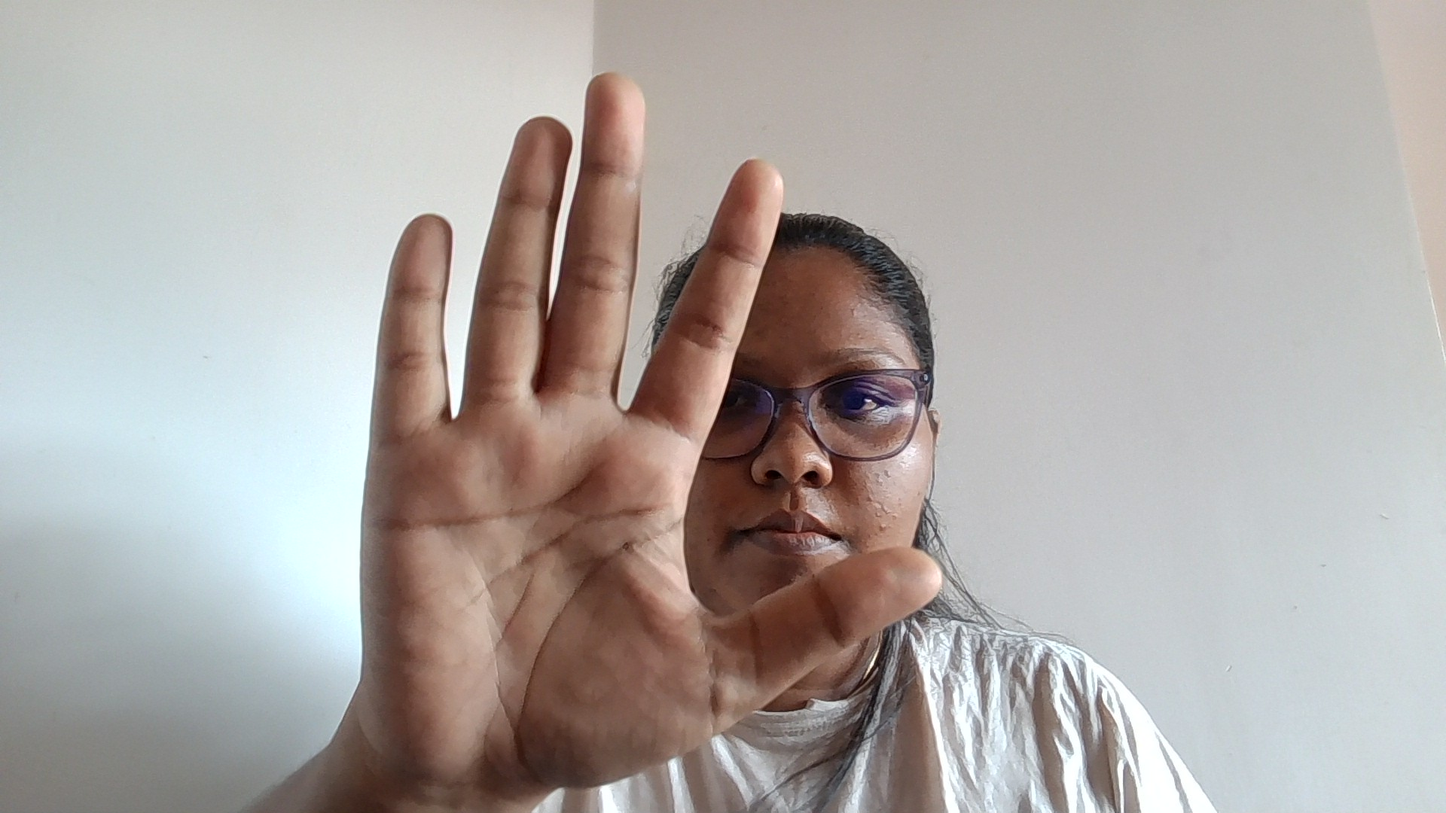Hello: (314, 60, 959, 794)
